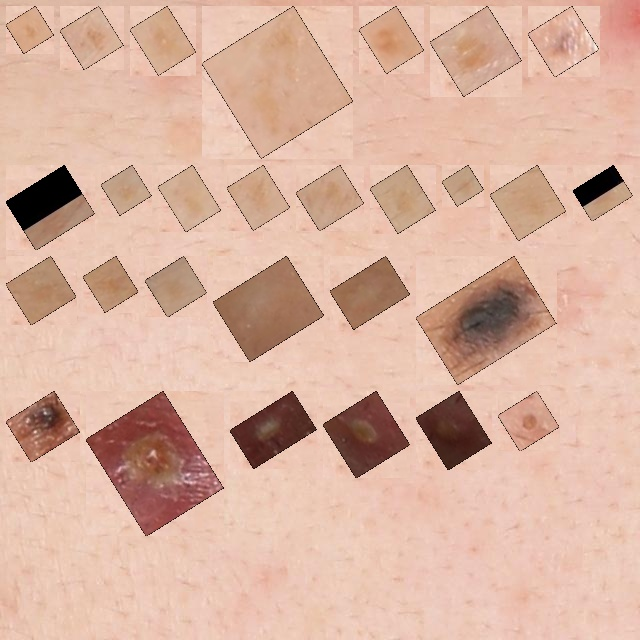hypertrophic_scar: (224, 267, 313, 350), (341, 267, 399, 318)
melasma: (213, 17, 342, 147), (441, 17, 511, 85), (17, 176, 84, 239), (501, 176, 555, 229), (17, 267, 65, 314), (141, 17, 185, 64), (307, 176, 353, 220), (381, 176, 424, 222), (370, 17, 413, 62), (169, 176, 210, 221), (238, 176, 279, 219), (71, 17, 112, 58), (156, 267, 196, 306), (584, 176, 622, 210), (94, 267, 127, 301), (112, 176, 140, 204), (17, 17, 43, 42), (453, 176, 473, 195)
nevus: (427, 267, 545, 373), (17, 402, 69, 451), (539, 17, 588, 66)
pustule: (97, 402, 213, 525), (334, 402, 399, 467), (241, 402, 306, 457), (427, 402, 481, 459), (509, 402, 548, 440)
